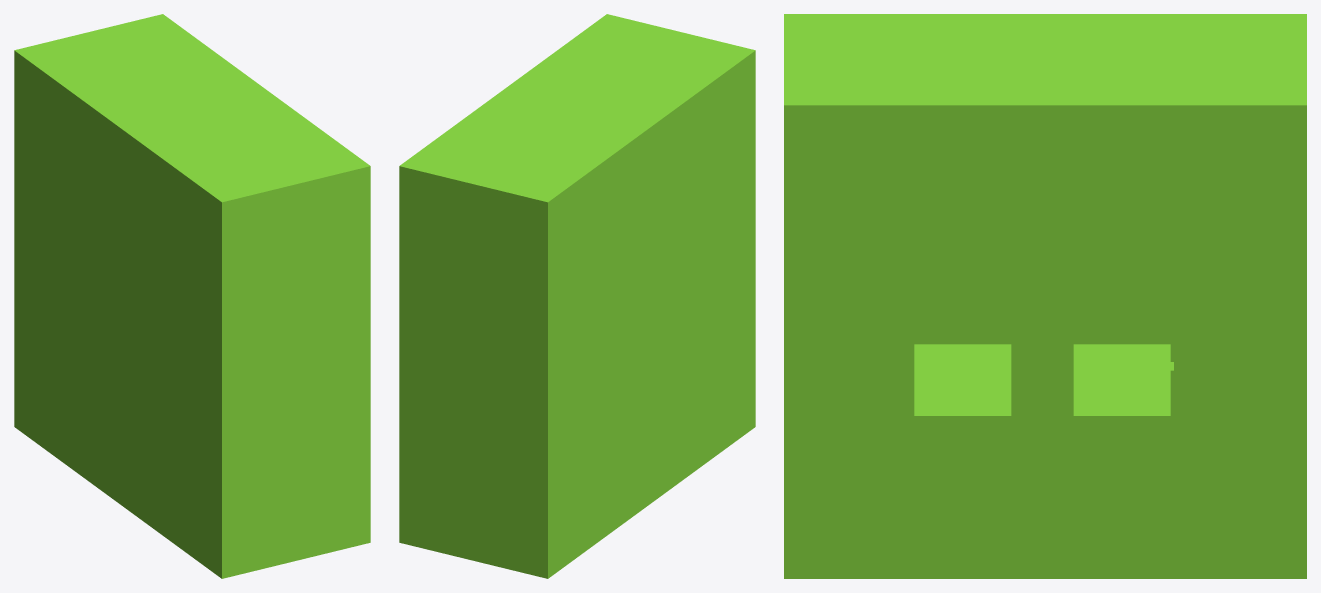
File: _ocketWall 1.fbx
3 renders of one model, left to right at view 1: azimuth 30°, elevation 25°; view 2: azimuth 150°, elevation 25°; view 3: azimuth 270°, elevation 25°, orthographic. The views are drawn at different scales.
Visible parts, largest first — view 1: Cube.008; view 2: Cube.008; view 3: Cube.008.
Boxes of the visible parts, x1=… form: Cube.008: x1=14, y1=14, x2=370, y2=578; Cube.008: x1=399, y1=14, x2=755, y2=578; Cube.008: x1=784, y1=14, x2=1306, y2=578.
Size of the model in its own units: 10.35 by 25.04 by 25.04.
